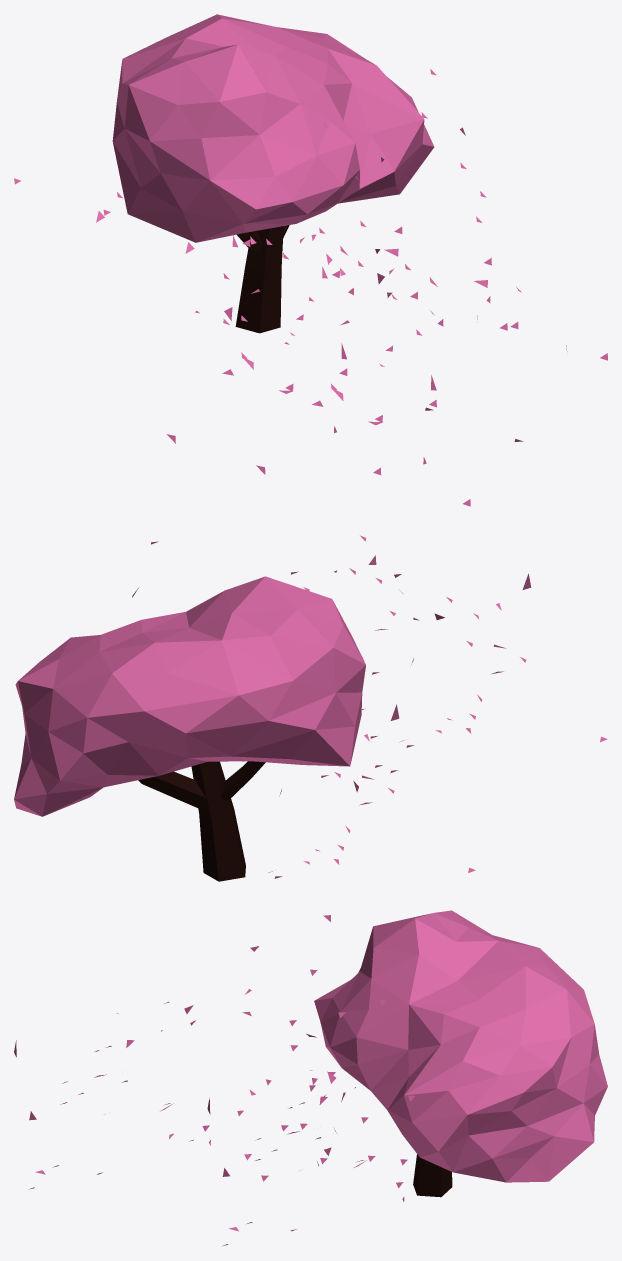
The model's file is sakura.obj.
The picture shows the model from 3 angles, top to bottom: view 1: azimuth 30°, elevation 25°; view 2: azimuth 150°, elevation 25°; view 3: azimuth 270°, elevation 25°; orthographic projection. The views are drawn at different scales.
Visible parts, largest first — view 1: Icosphere_0, Cylinder.001_0; view 2: Icosphere_0, Cylinder.001_0; view 3: Icosphere_0, Cylinder.001_0.
Boxes of the visible parts, x1,y1,x2,y2 form: Icosphere_0: [14, 14, 607, 506]; Cylinder.001_0: [235, 225, 289, 333]; Icosphere_0: [14, 535, 607, 878]; Cylinder.001_0: [138, 761, 265, 881]; Icosphere_0: [14, 910, 607, 1246]; Cylinder.001_0: [413, 1154, 452, 1197].
Size of the model in its own units: 17.78 by 14.91 by 25.56.
